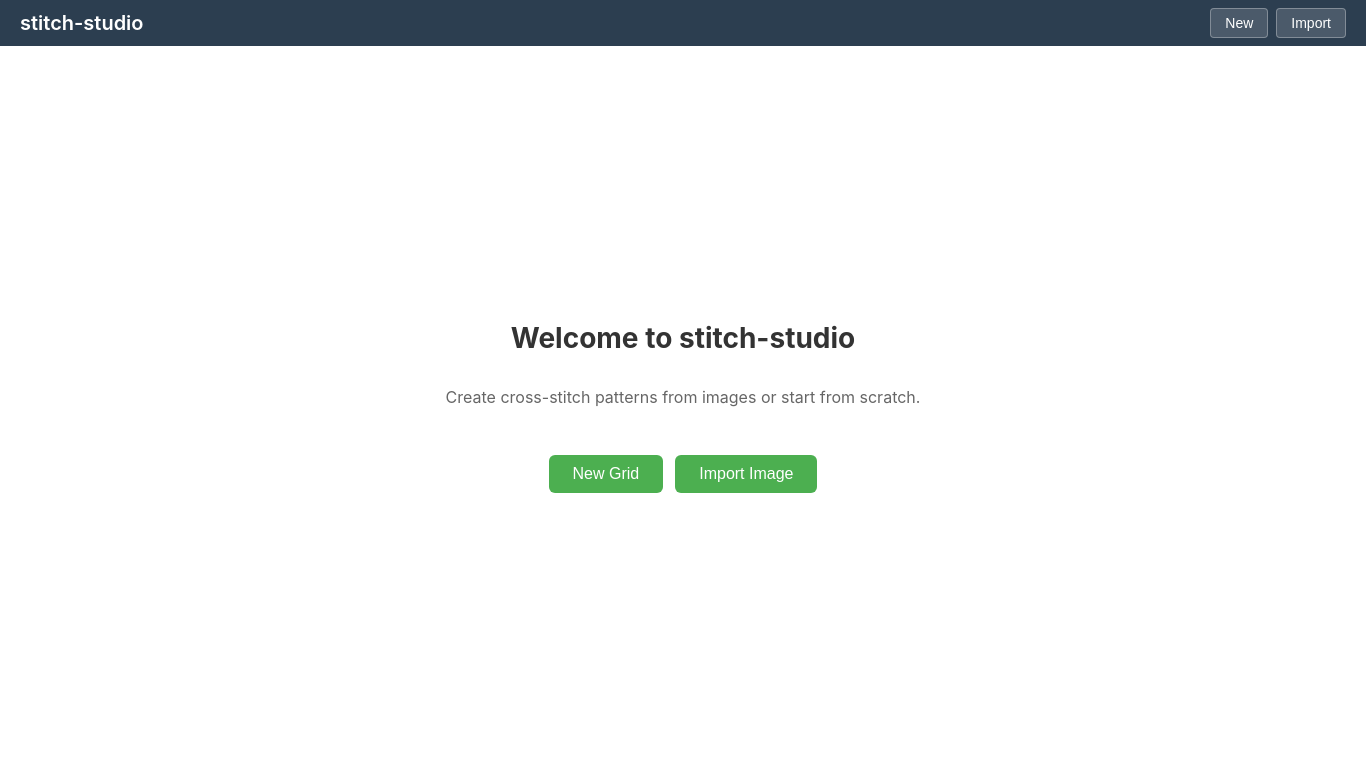
Test case: App › creates new grid and switches to editor view
# Open New Grid modal
Click the button "New Grid".
click(606, 474)  # box [548,455,663,493]
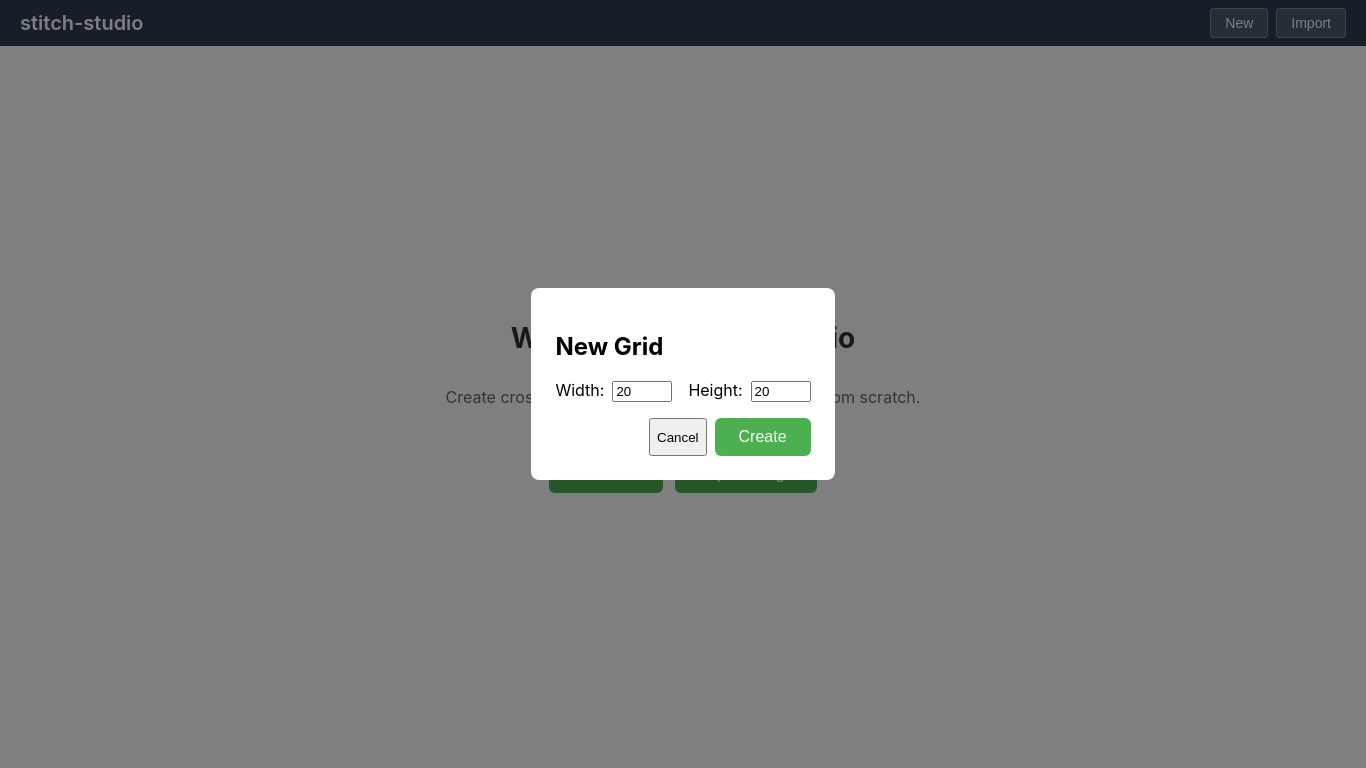
# Click Create
Click the button "Create".
click(763, 437)  # box [715,418,811,456]
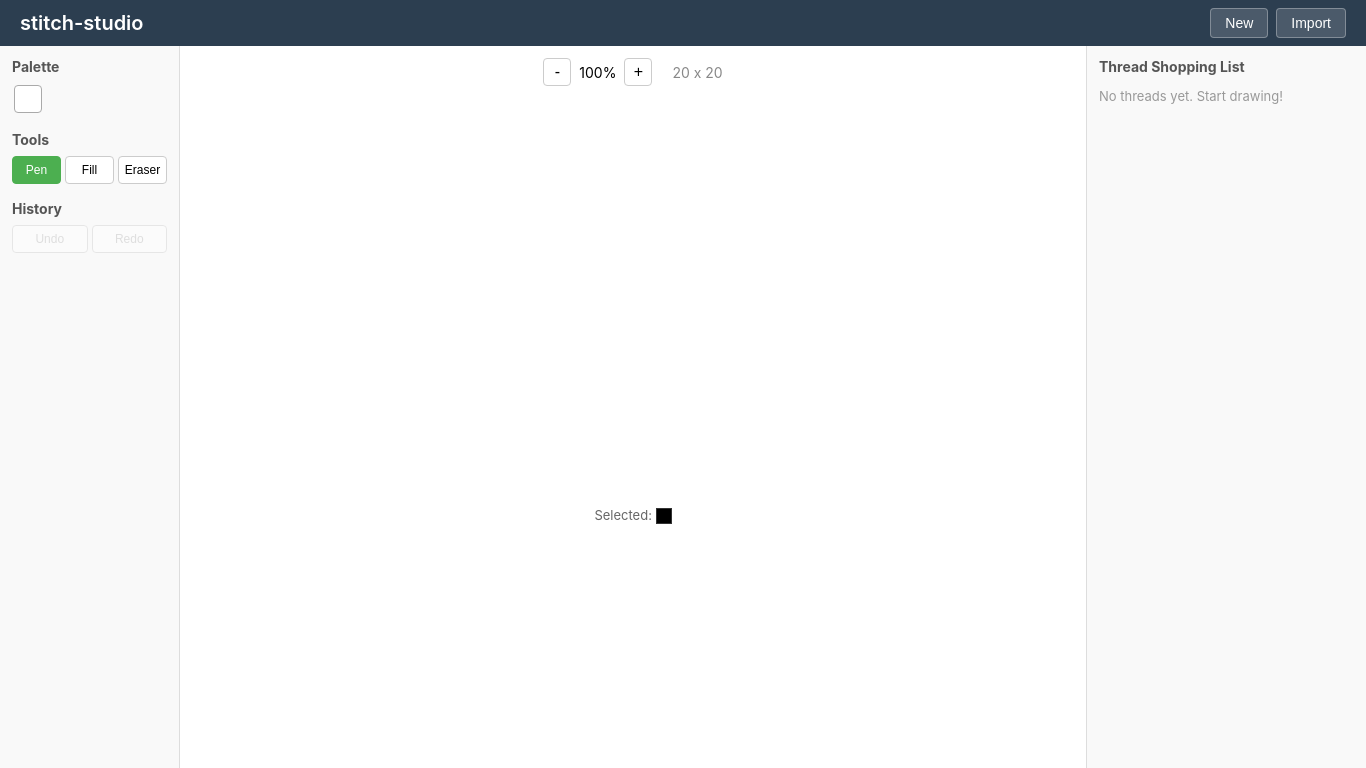
Check: the heading "Palette" is shown, box [12,58,60,75]
Check: the heading "Thread Shopping List" is shown, box [1099,58,1245,75]
